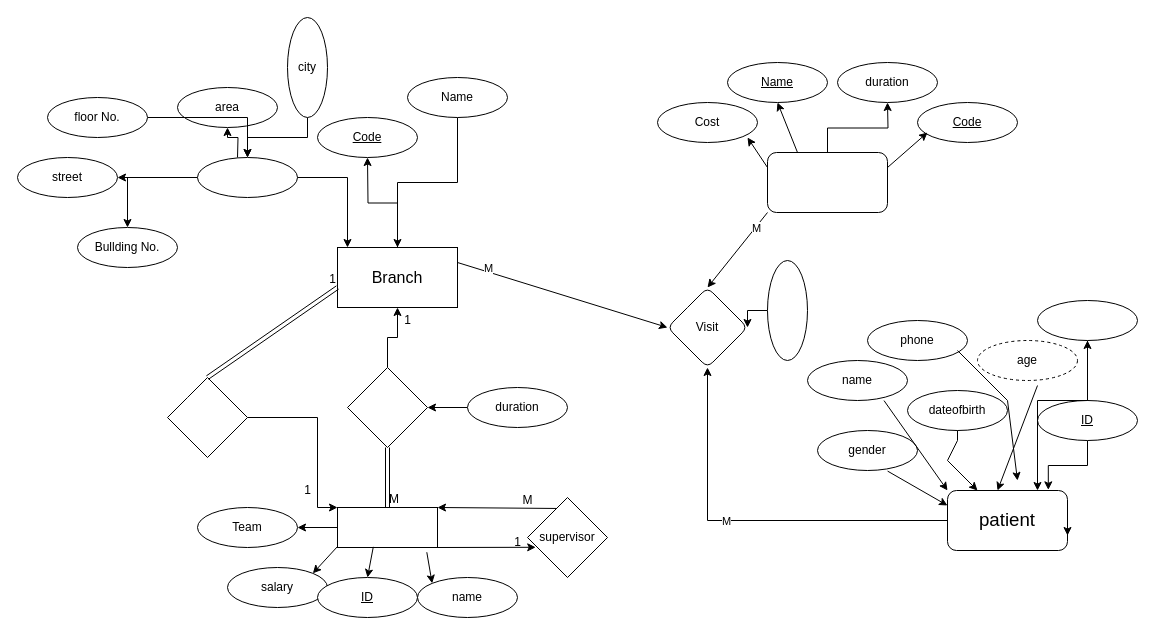
Some shapes in this 1155 by 635 pixel diagram are drawn without their labels. Each missing label, with the centre of its shape:
"Address" goes at (247,177).
"date of test" goes at (787,310).
"Employee" goes at (387,527).
"has chronic diseases" goes at (1087,320).
"Mange" goes at (207,417).
"serve" goes at (387,407).
"tests" goes at (827,182).
